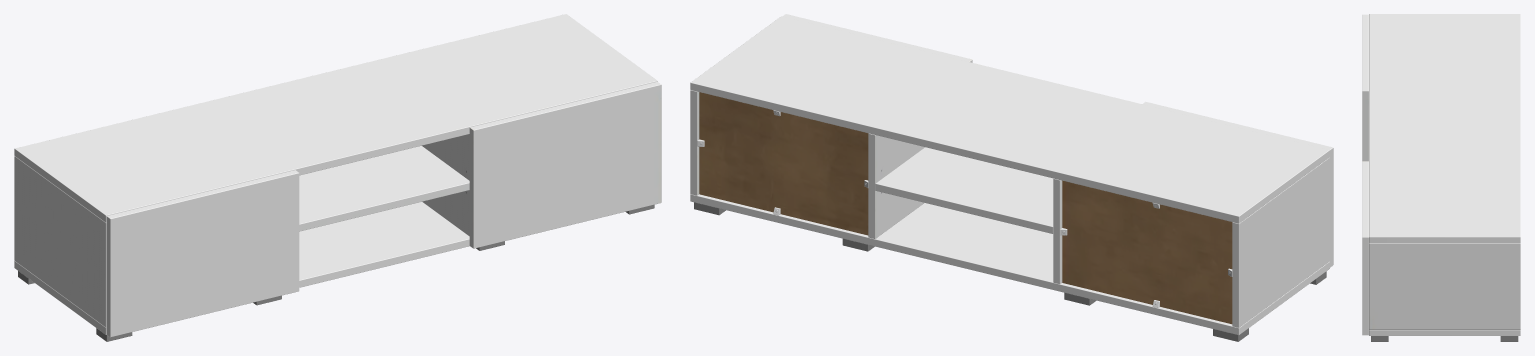
The model's file is abo-B07S37JTS9.glb.
3 renders of one model, left to right at view 1: azimuth 30°, elevation 25°; view 2: azimuth 150°, elevation 25°; view 3: azimuth 270°, elevation 25°, orthographic. The views are drawn at different scales.
Size of the model in its own units: 1.4 by 0.31 by 0.42.
1 material, 1 textured.
